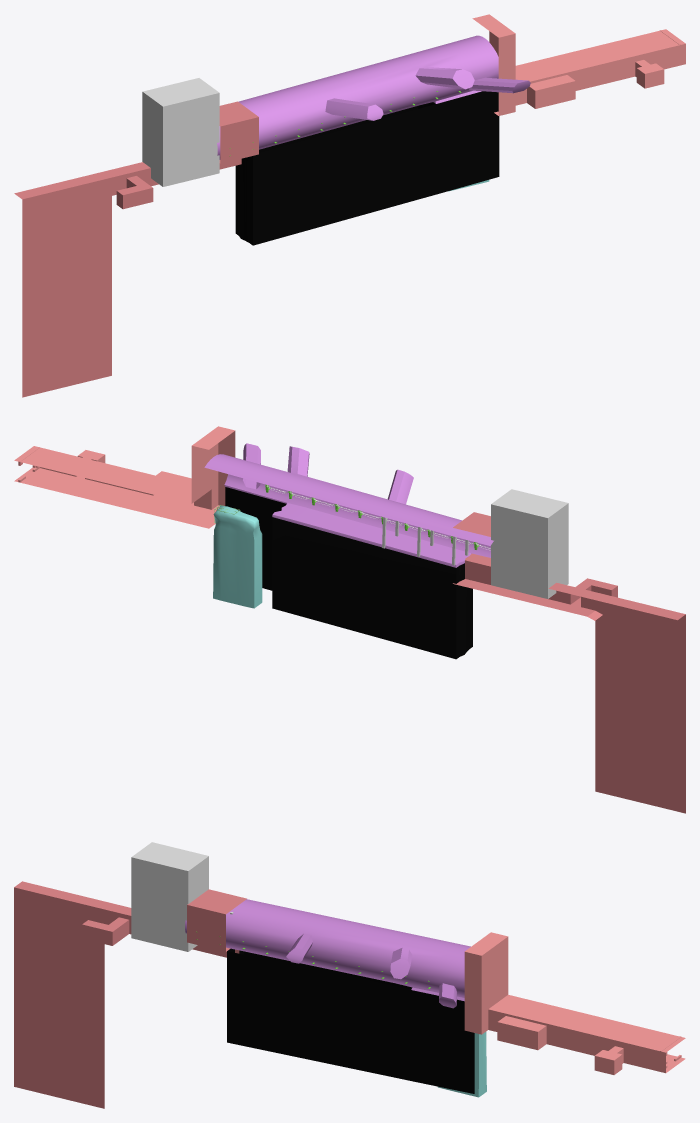
File: salle7 (2).fbx
3 views of the same model, one above another, from view 1: azimuth 30°, elevation 25°; view 2: azimuth 150°, elevation 25°; view 3: azimuth 330°, elevation 25° (orthographic).
Visible parts, largest first — view 1: Cylinder.008, Cube.020, Cylinder.005, Cube.023; view 2: Cylinder.008, Cube.020, Cylinder.005, Cube.023, Cube.018; view 3: Cylinder.008, Cube.020, Cylinder.005, Cube.023, Cube.018.
Part boxes in pixels (x1,y1,x2,y2): Cylinder.008: (217,35,530,245); Cube.020: (14,101,258,397); Cylinder.005: (472,14,685,115); Cube.023: (142,78,219,186); Cylinder.008: (204,443,493,659); Cube.020: (453,512,685,813); Cylinder.005: (14,426,235,528); Cube.023: (491,489,568,598); Cube.018: (213,505,262,608); Cylinder.008: (185,899,474,1093); Cube.020: (14,881,246,1108); Cylinder.005: (464,932,685,1074); Cube.023: (131,842,208,951); Cube.018: (438,1032,486,1097).
Size of the model in its own units: 28859 by 11285 by 3807.
